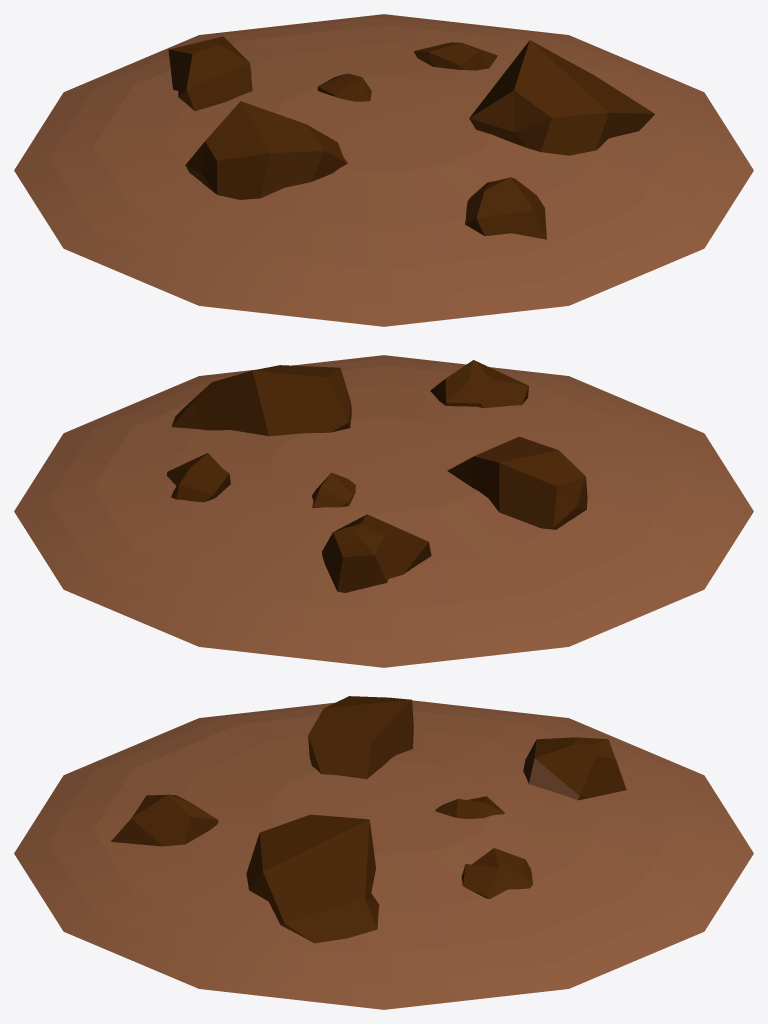
File: Coockies.fbx
The picture shows the model from 3 angles, top to bottom: view 1: azimuth 30°, elevation 25°; view 2: azimuth 150°, elevation 25°; view 3: azimuth 270°, elevation 25°; orthographic projection.
Parts seen in each view (by area): view 1: pCylinder2; view 2: pCylinder2; view 3: pCylinder2.
Part boxes in pixels (box(x1,y1,x2,y2)): pCylinder2: box(14, 14, 753, 326); pCylinder2: box(14, 355, 753, 667); pCylinder2: box(14, 696, 753, 1009).
Size of the model in its own units: 181 by 27.51 by 181.
